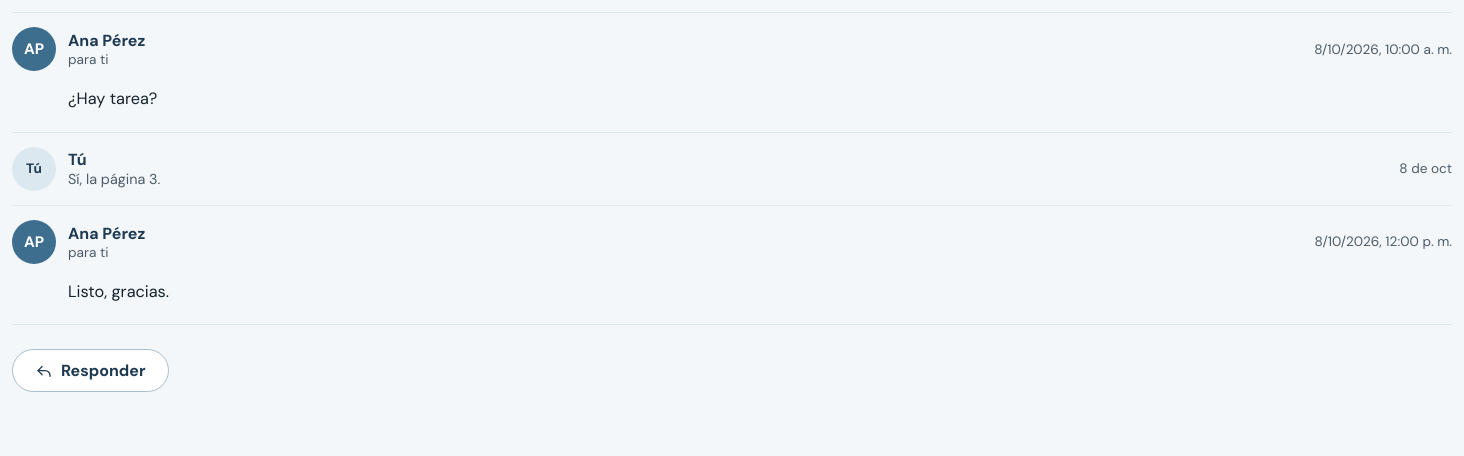
Test: a conversation (HU-51), read like a mail thread › opens the one being read and the newest, the others show one line and open with a click
The image size is (1464, 456).
Click the button "Tú Tú Sí, la página 3. 8 de oct" at (34, 169), box left=12, top=132, right=1452, bottom=204
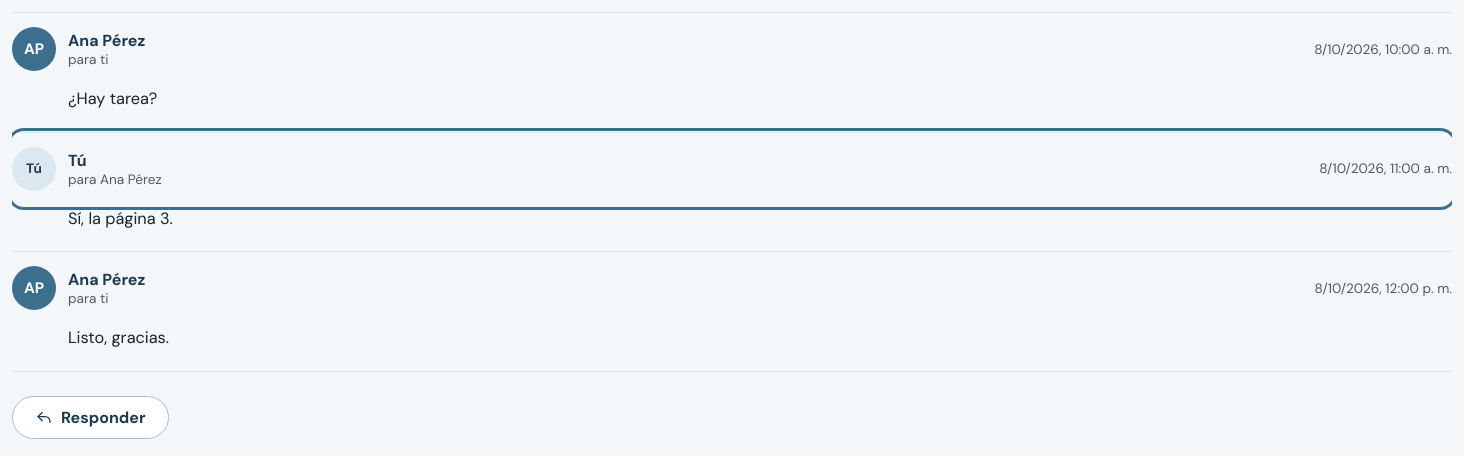
Check: the button "Tú Tú para Ana Pérez 8/10/2026, 11:00 a. m." is expanded, box left=12, top=132, right=1452, bottom=204
